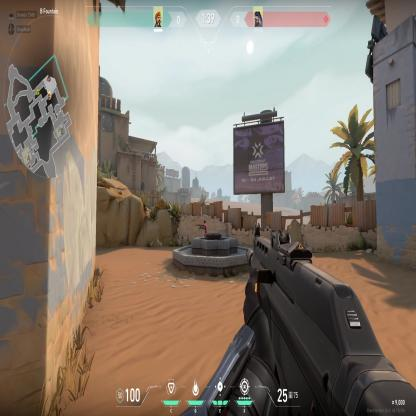enemy: (201, 219, 208, 237)
